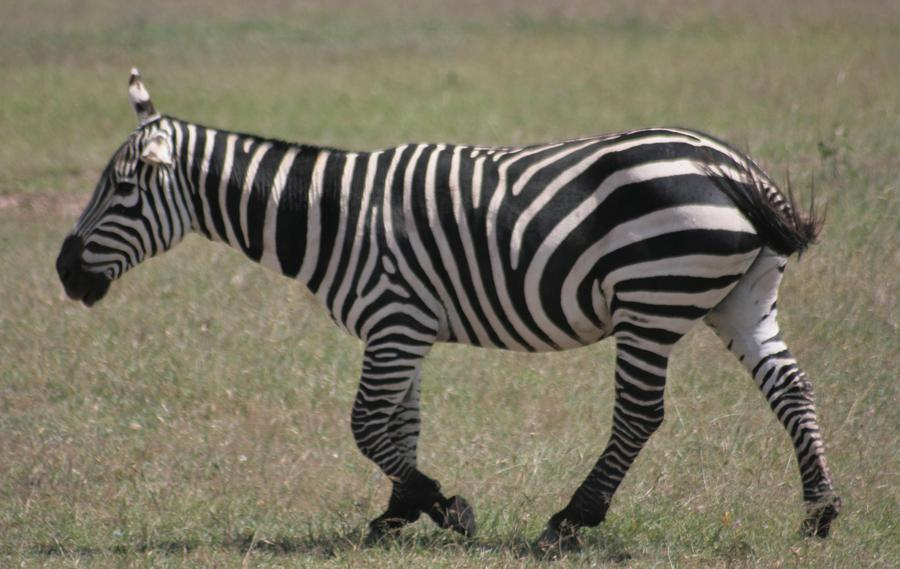zebra_plains: (333, 135, 714, 351)
